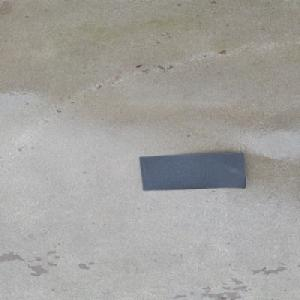PaintChip: (138, 151, 246, 191)
